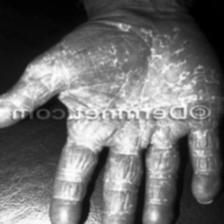Toxin: (52, 134, 208, 224), (48, 28, 205, 100)
